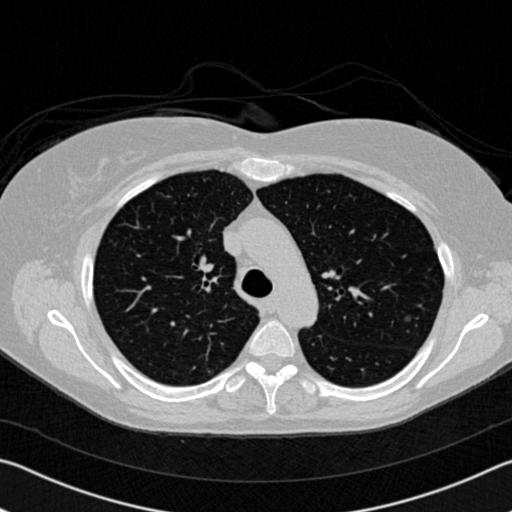nodule: (401, 312, 413, 324)
